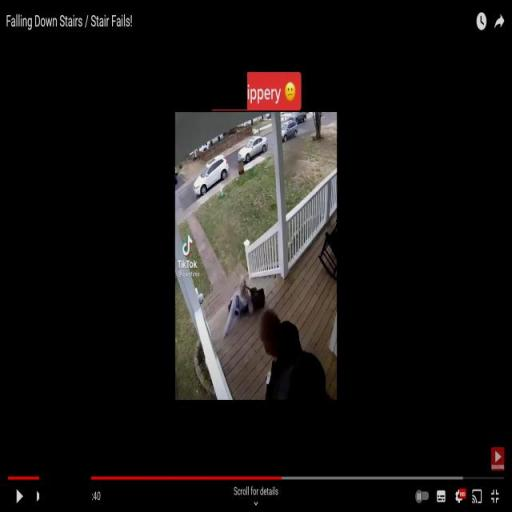Fall: (222, 276, 255, 340)
